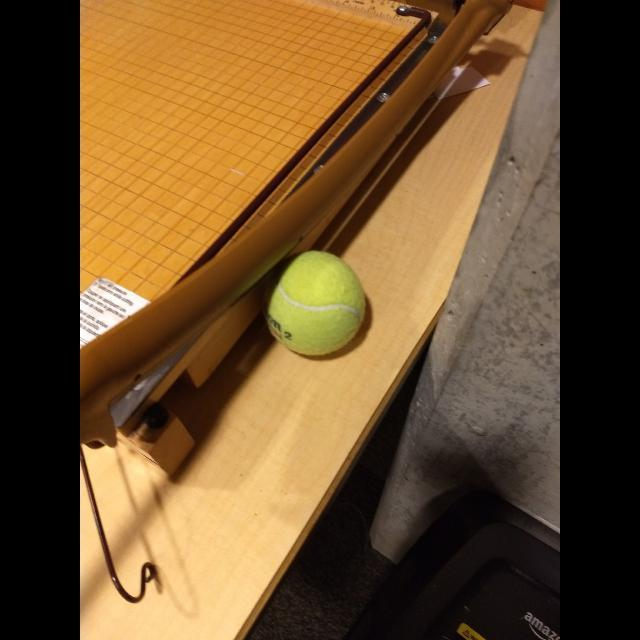tennis-ball: (257, 249, 368, 362)
